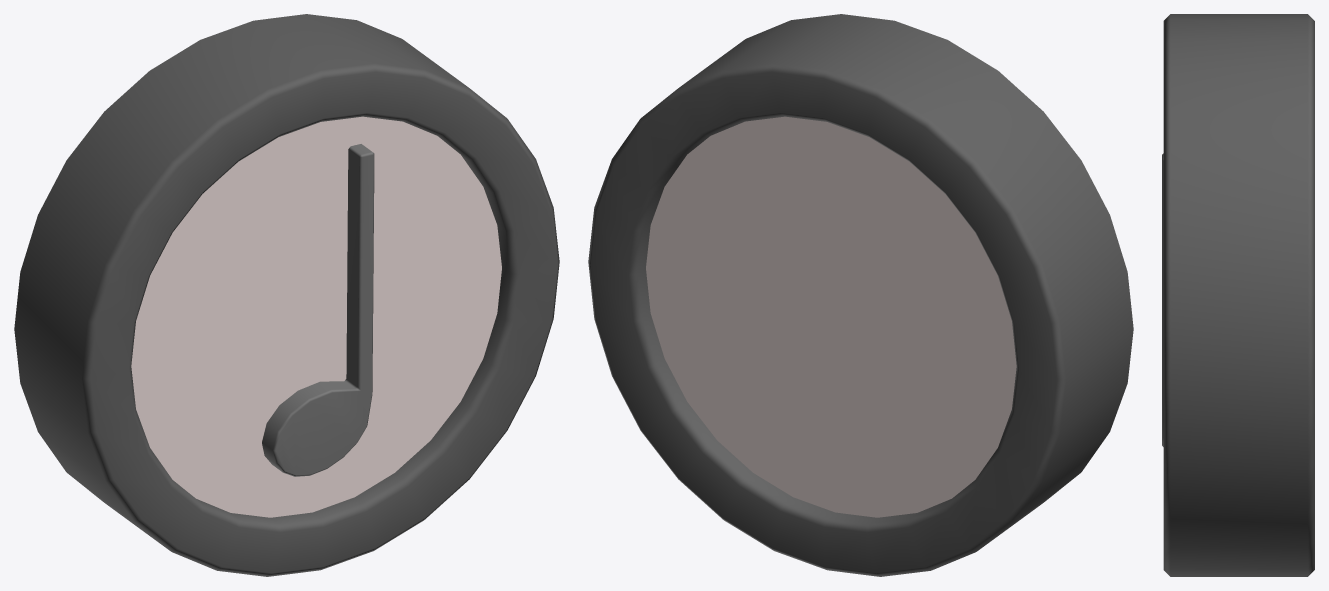
The model's file is Isl_3_Note_Sign_1.fbx.
3 renders of one model, left to right at view 1: azimuth 30°, elevation 25°; view 2: azimuth 150°, elevation 25°; view 3: azimuth 270°, elevation 25°, orthographic. The views are drawn at different scales.
Parts seen in each view (by area): view 1: Isl_3_Note_Sign_1; view 2: Isl_3_Note_Sign_1; view 3: Isl_3_Note_Sign_1.
Part boxes in pixels (x1=…): Isl_3_Note_Sign_1: x1=14, y1=14, x2=559, y2=576; Isl_3_Note_Sign_1: x1=588, y1=14, x2=1133, y2=576; Isl_3_Note_Sign_1: x1=1162, y1=14, x2=1314, y2=576.
Size of the model in its own units: 109 by 109 by 29.57.
